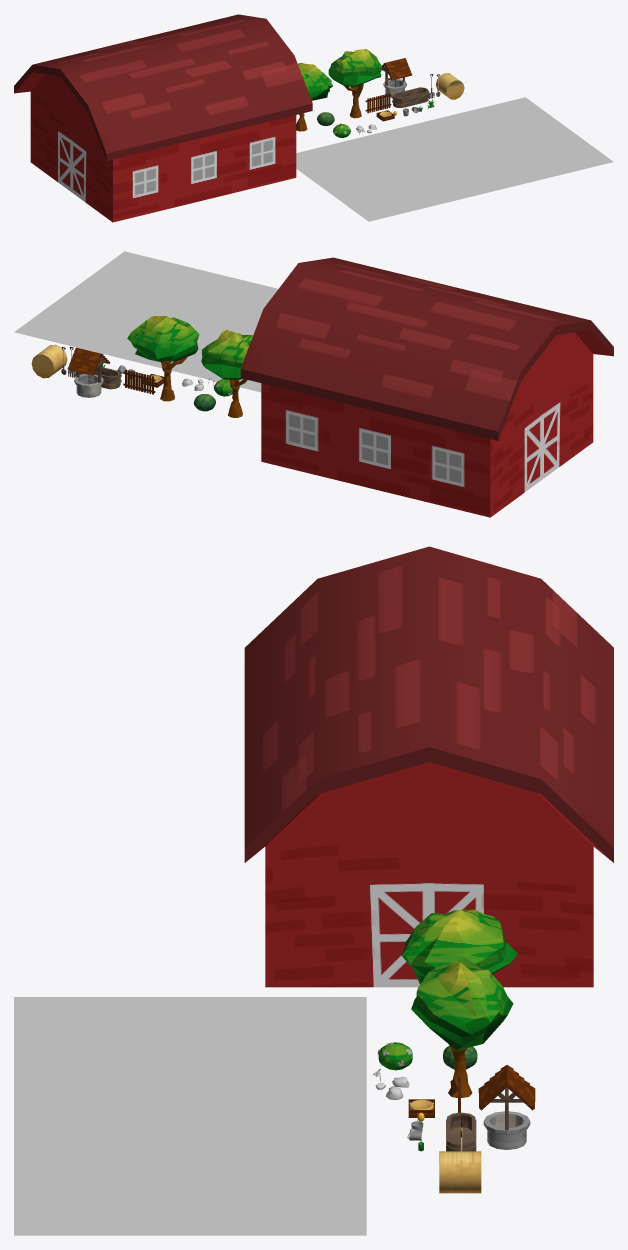
The model's file is Golden Chicken Hero Environment Assets Part 2.fbx.
3 renders of one model, top to bottom at view 1: azimuth 30°, elevation 25°; view 2: azimuth 150°, elevation 25°; view 3: azimuth 270°, elevation 25°, orthographic. The views are drawn at different scales.
Parts seen in each view (by area): view 1: mesh_barn_01, mesh_ground_01, mesh_tree_01, polySurface2, mesh_well_01, mesh_watertrough_01, mesh_haystack_01, mesh_fence_01; view 2: mesh_barn_01, mesh_ground_01, mesh_tree_01, polySurface2, mesh_well_01, mesh_haystack_01, mesh_fence_01, mesh_watertrough_01, polySurface1; view 3: mesh_barn_01, mesh_ground_01, mesh_tree_01, polySurface2, mesh_well_01, mesh_haystack_01, mesh_watertrough_01.
Boxes of the visible parts, x1=… form: mesh_barn_01: x1=14, y1=14, x2=312, y2=222; mesh_ground_01: x1=296, y1=97, x2=613, y2=221; mesh_tree_01: x1=328, y1=49, x2=382, y2=118; polySurface2: x1=298, y1=62, x2=332, y2=100; mesh_well_01: x1=381, y1=58, x2=412, y2=97; mesh_watertrough_01: x1=392, y1=87, x2=429, y2=107; mesh_haystack_01: x1=436, y1=73, x2=464, y2=99; mesh_fence_01: x1=365, y1=93, x2=391, y2=113; mesh_barn_01: x1=240, y1=257, x2=613, y2=517; mesh_ground_01: x1=14, y1=251, x2=278, y2=392; mesh_tree_01: x1=127, y1=316, x2=199, y2=401; polySurface2: x1=201, y1=330, x2=252, y2=379; mesh_well_01: x1=67, y1=347, x2=110, y2=397; mesh_haystack_01: x1=31, y1=344, x2=67, y2=378; mesh_fence_01: x1=123, y1=369, x2=155, y2=394; mesh_watertrough_01: x1=74, y1=367, x2=121, y2=389; polySurface1: x1=228, y1=379, x2=247, y2=417; mesh_barn_01: x1=244, y1=546, x2=613, y2=987; mesh_ground_01: x1=14, y1=997, x2=366, y2=1235; mesh_tree_01: x1=411, y1=961, x2=513, y2=1097; polySurface2: x1=401, y1=909, x2=518, y2=983; mesh_well_01: x1=478, y1=1065, x2=535, y2=1149; mesh_haystack_01: x1=439, y1=1151, x2=481, y2=1193; mesh_watertrough_01: x1=446, y1=1112, x2=476, y2=1151.
Bounding box in the file's own units: 7333 × 2018 × 4253.
